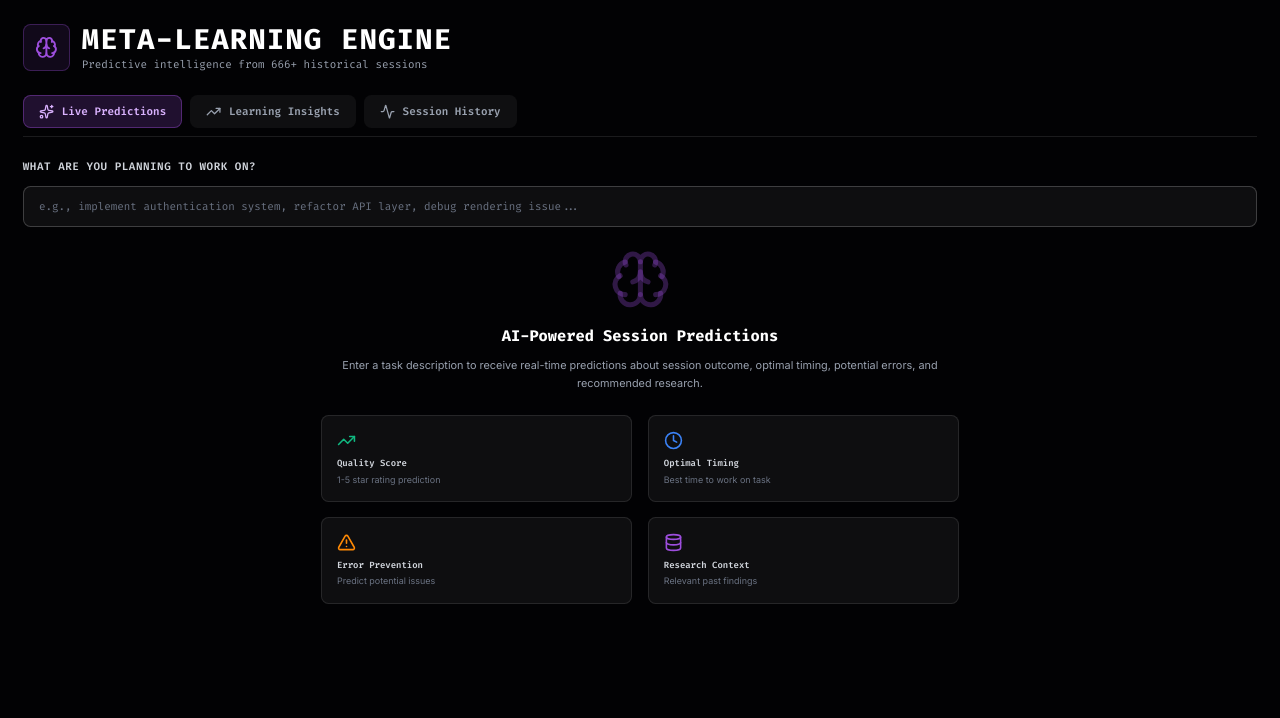
Scenario: MetaLearningDashboard › shows system status in insights view
Click the button "Learning Insights" at {"x": 273, "y": 112}, box [190,95,356,128]
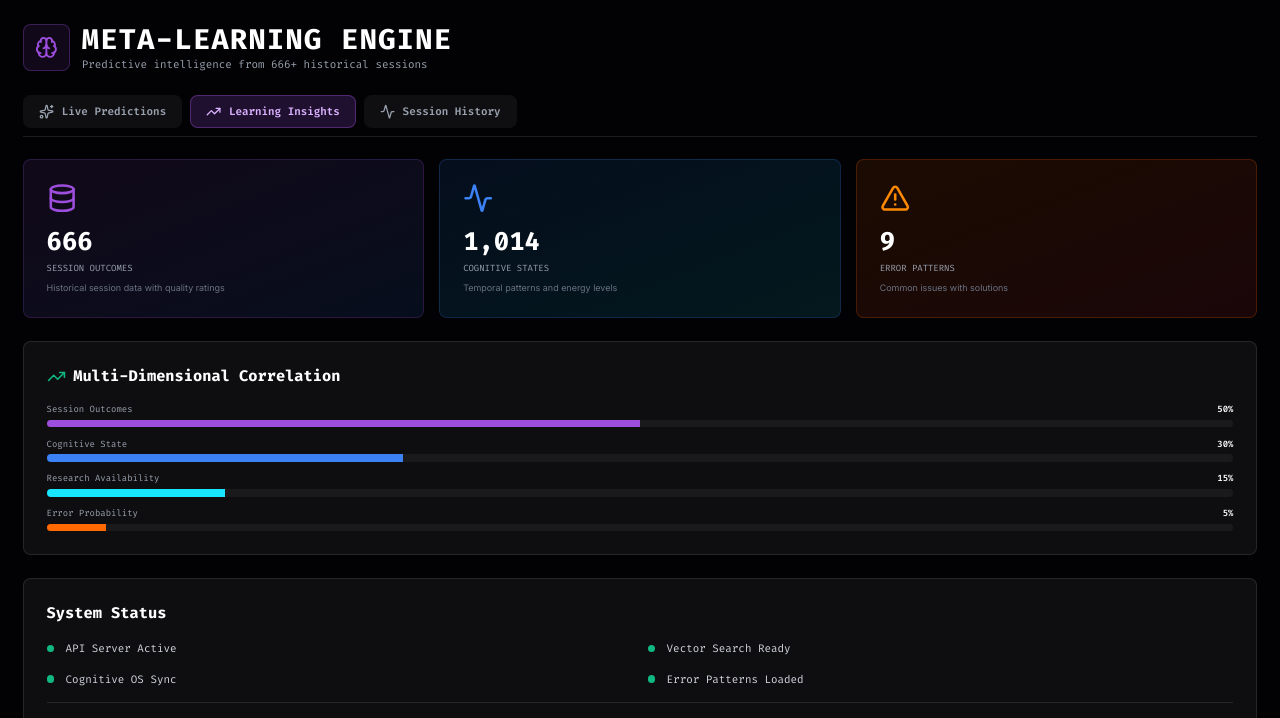
Expected: the heading "System Status" is shown, [47,603,166,623]
Expected: the text "API Server Active" is shown, [66,641,176,656]
Expected: the text "Vector Search Ready" is shown, [667,641,791,656]
